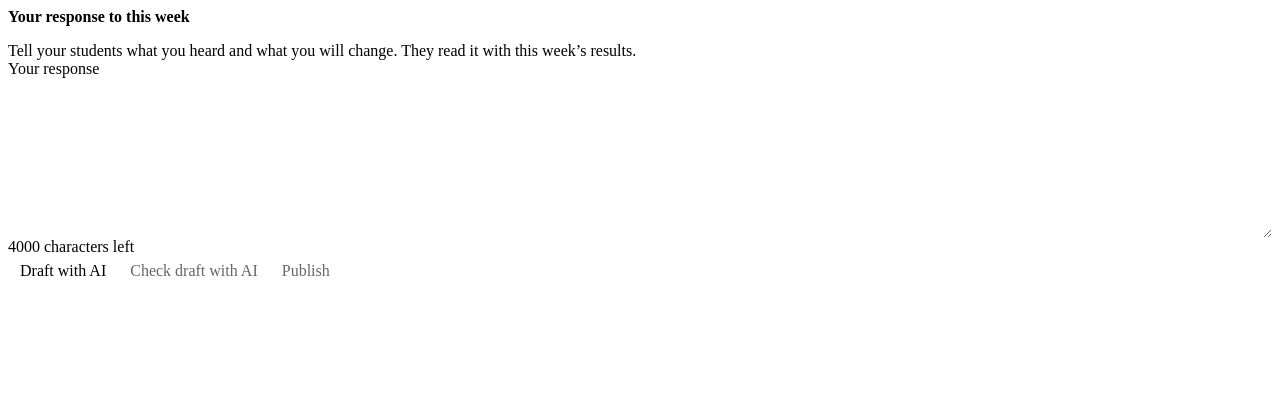
Scenario: the check › clears when one character changes, and a second run shows a fresh result
In the text box labelled "Your response": [640, 158] box top-left (8, 78), bottom-right (1272, 238), type "A draft."
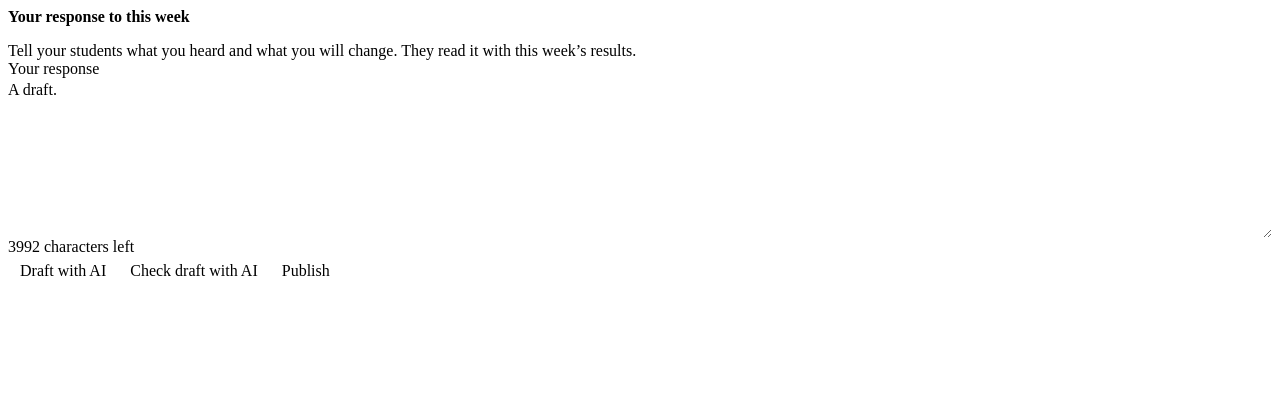
Click the button "Check draft with AI": [194, 271] box top-left (118, 256), bottom-right (270, 286)
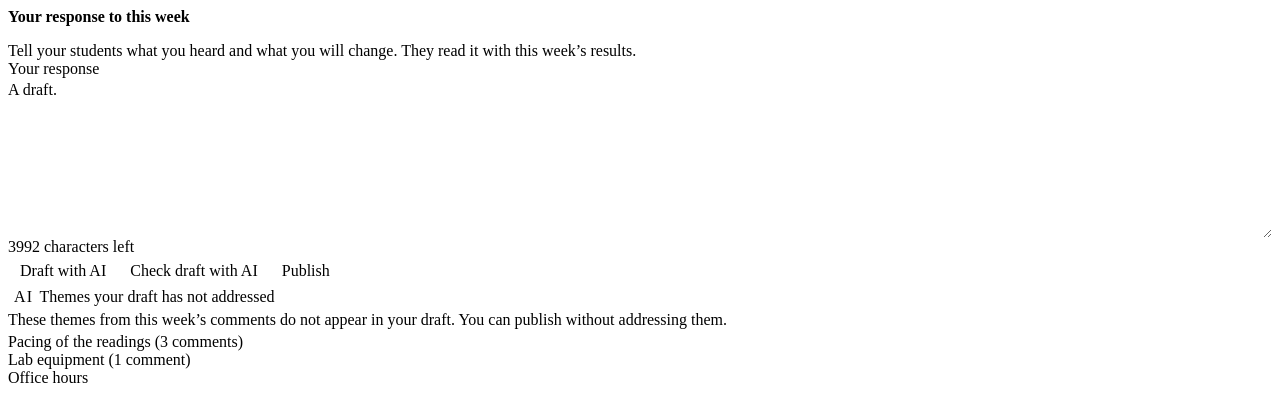
Now the element "Themes your draft has not addressed" is shown, box top-left (8, 288), bottom-right (727, 386)
Replace the text in the text box labelled "Your response" with "A draft!": [640, 158] box top-left (8, 78), bottom-right (1272, 238)
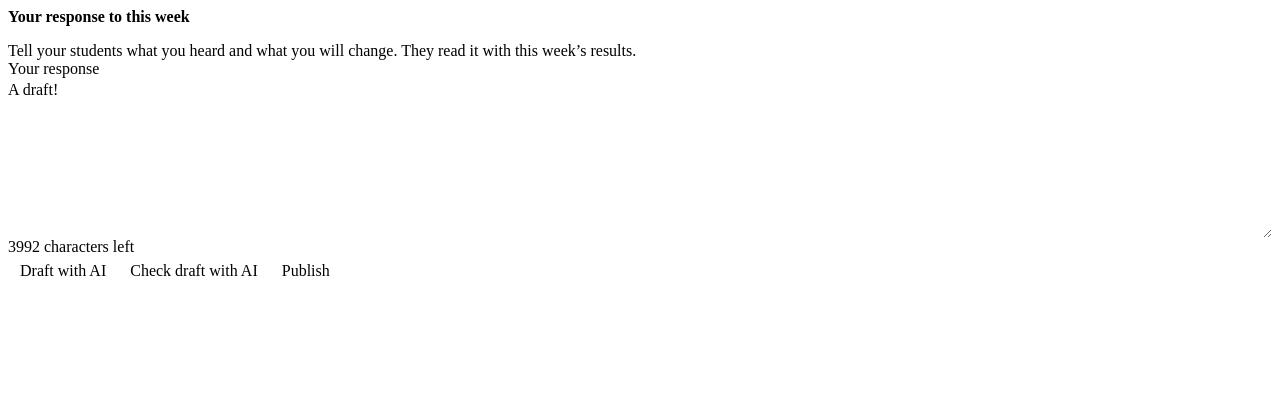
Now the text "Themes your draft has not addressed" is gone
Click the button "Check draft with AI": [194, 271] box top-left (118, 256), bottom-right (270, 286)
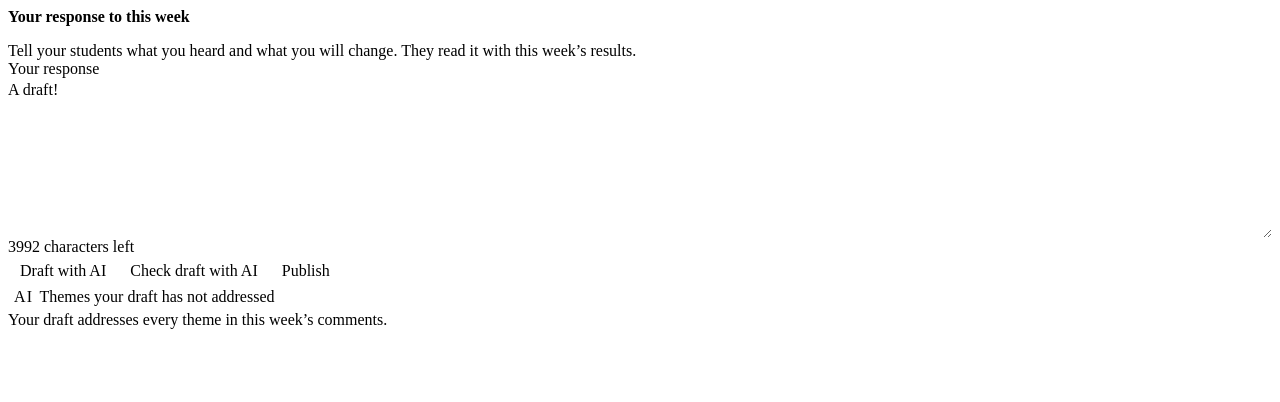
Now the text "Your draft addresses every theme in this week’s comments." is shown, box top-left (8, 311), bottom-right (387, 328)
